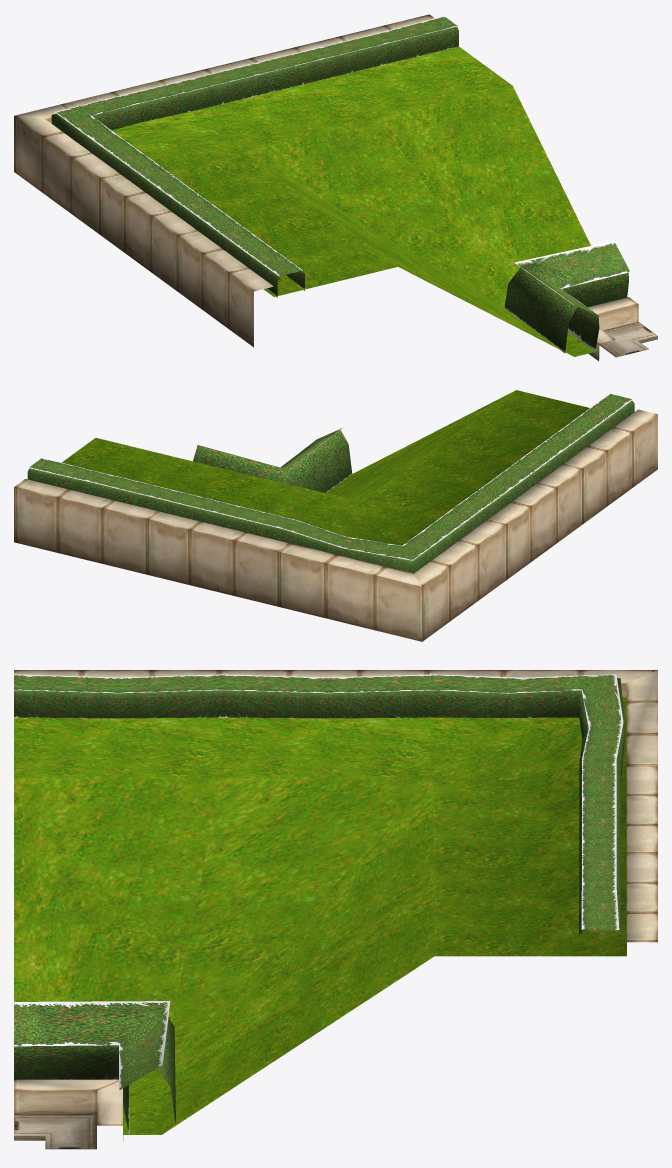
Rendered from a_SWEstair03.glb.
The picture shows the model from 3 angles, top to bottom: view 1: azimuth 30°, elevation 25°; view 2: azimuth 150°, elevation 25°; view 3: azimuth 270°, elevation 25°; orthographic projection. The views are drawn at different scales.
Visible parts, largest first — view 1: a_SWEstair03; view 2: a_SWEstair03; view 3: a_SWEstair03.
Part boxes in pixels (left/top/right/bottom): a_SWEstair03: left=14, top=14, right=657, bottom=360; a_SWEstair03: left=14, top=390, right=657, bottom=641; a_SWEstair03: left=14, top=670, right=657, bottom=1149.
Bounding box in the file's own units: 6.2 × 2.38 × 6.2.
4 materials, 4 textured.
